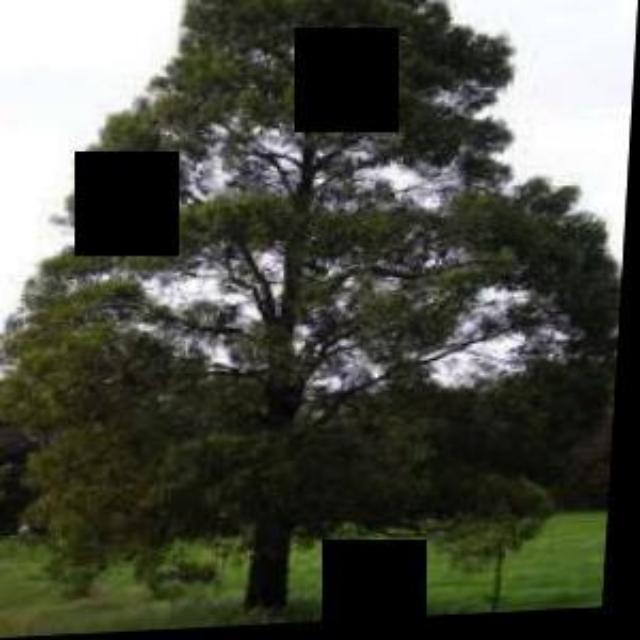tree: (1, 0, 632, 622)
